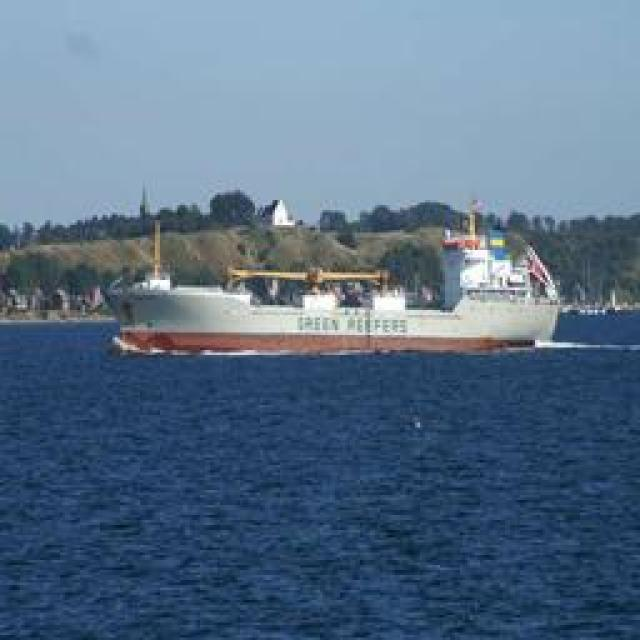ship2: (113, 200, 559, 352)
